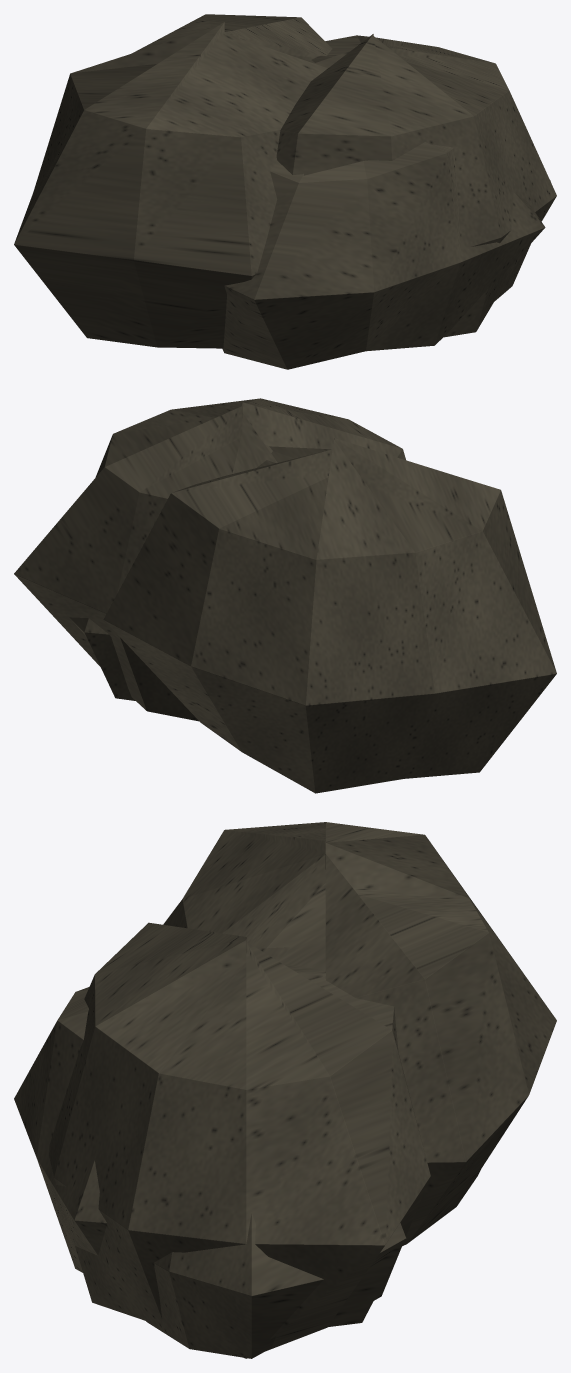
File: PROP-45E813BF273E_lod1.glb
The picture shows the model from 3 angles, top to bottom: view 1: azimuth 30°, elevation 25°; view 2: azimuth 150°, elevation 25°; view 3: azimuth 270°, elevation 25°; orthographic projection. The views are drawn at different scales.
Parts seen in each view (by area): view 1: rock.010; view 2: rock.010; view 3: rock.010.
Boxes of the visible parts, bbox=[...] form: rock.010: bbox=[14, 14, 556, 369]; rock.010: bbox=[14, 398, 556, 793]; rock.010: bbox=[14, 822, 556, 1358].
Bounding box in the file's own units: 1.73 × 0.9227 × 1.25.
Materials: 1 (1 with a texture image).
